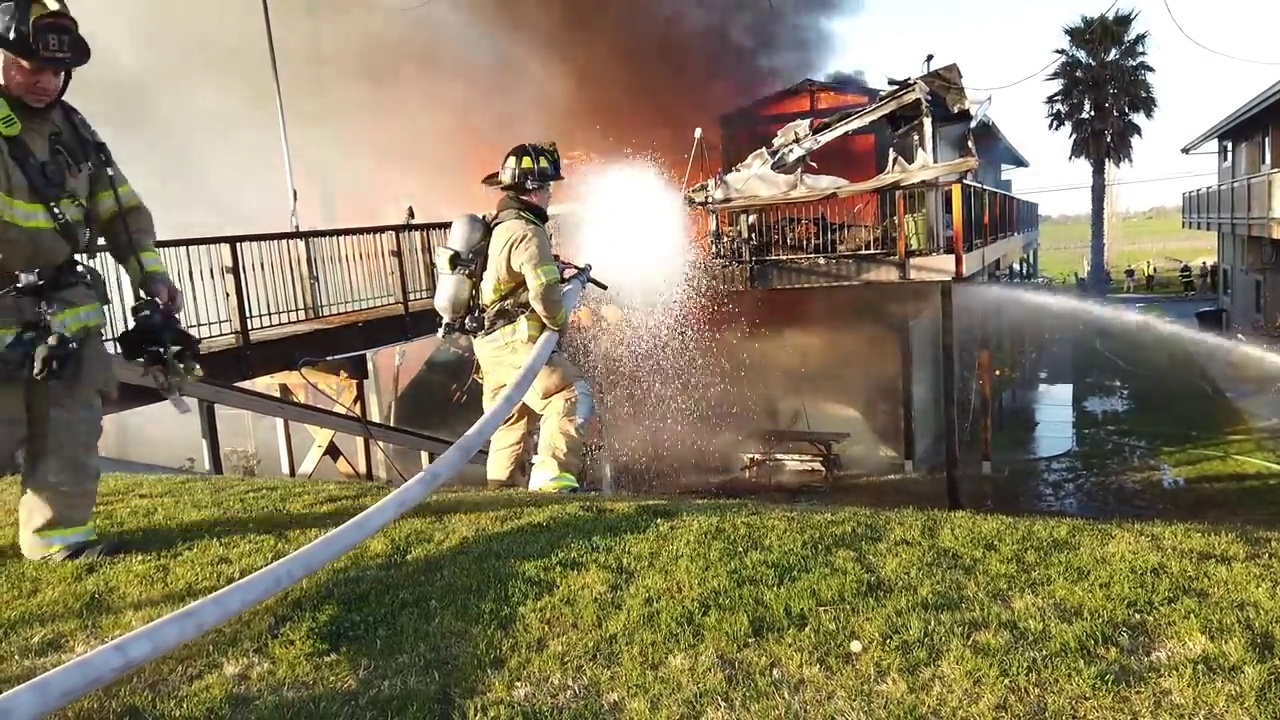fire: (759, 89, 868, 113)
smoke: (93, 5, 488, 225), (488, 1, 850, 111), (746, 304, 898, 462), (113, 407, 200, 467), (224, 405, 278, 473), (820, 139, 875, 177)
